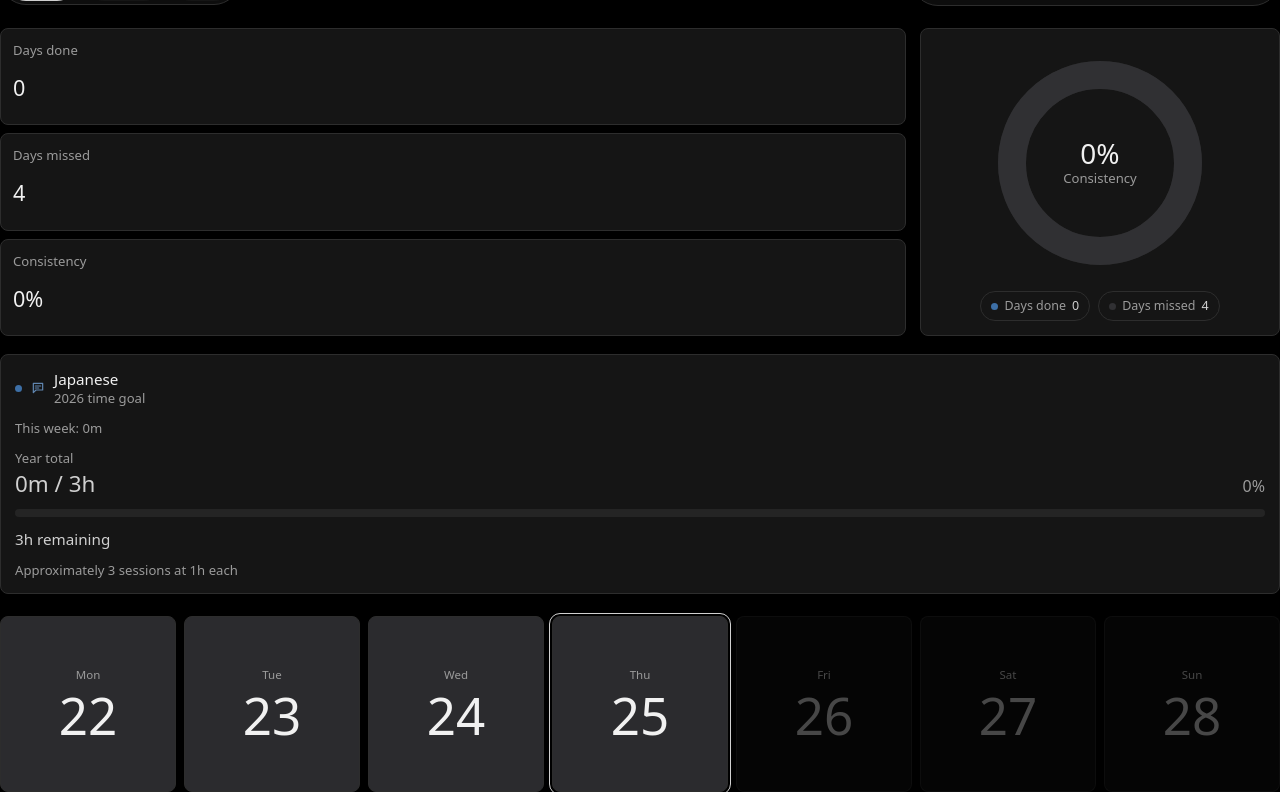
it: StatisticsView time goal card › opens and closes date details while restoring focus to the date cell
The width and height of the screenshot is (1280, 792).
(page scrolled)
Step 1. Click the button with aria-label "Tuesday, June 23, 2026, Japanese not completed" → (272, 704), box [184,616,360,791]
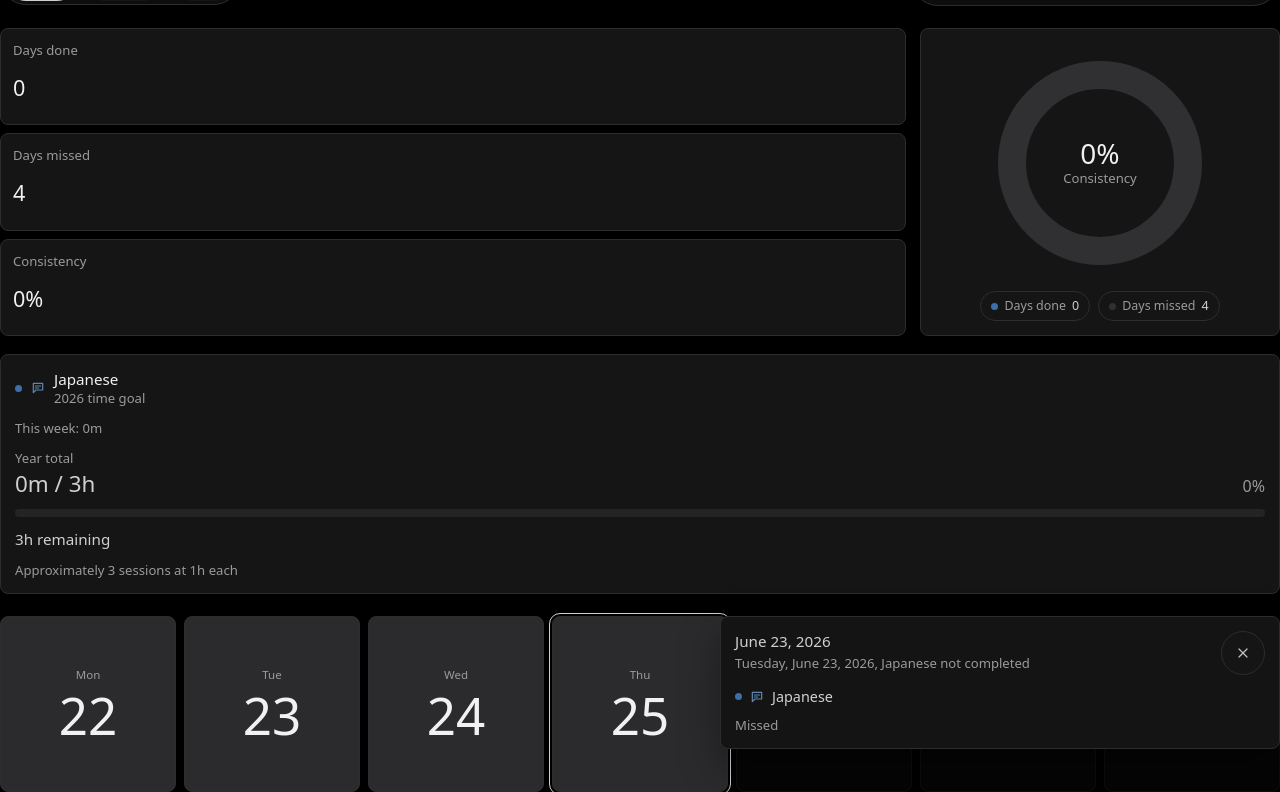
Expected: the dialog "June 23, 2026" is shown, [720,616,1279,749]
Step 2. Press Escape
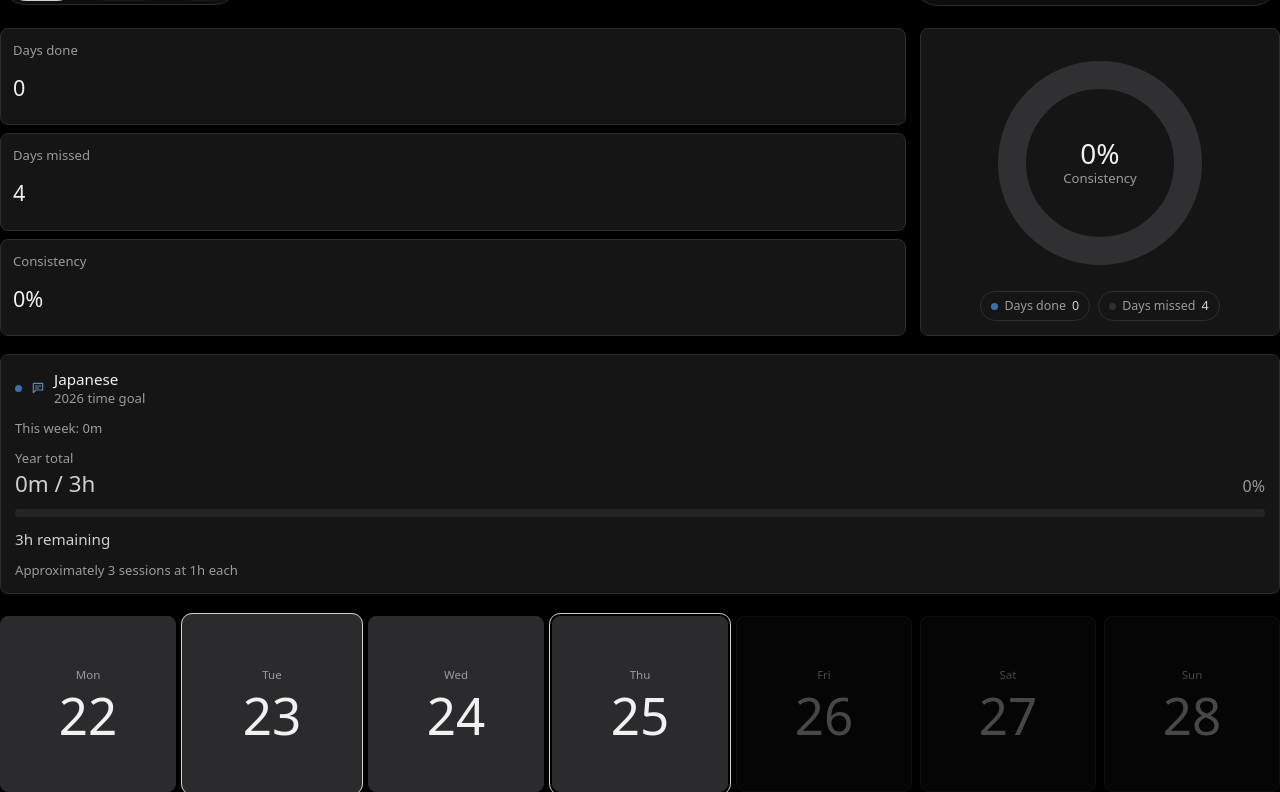
Expected: the heading "June 23, 2026" is gone
